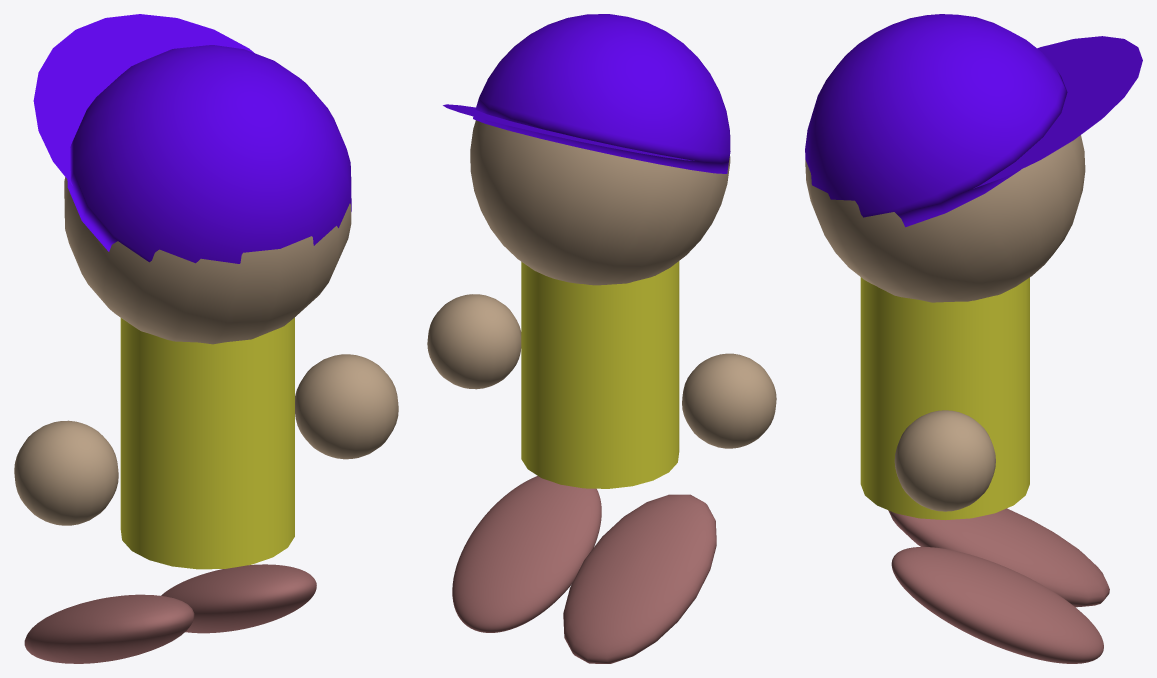
The model's file is playerjanp.fbx.
The picture shows the model from 3 angles, left to right: view 1: azimuth 30°, elevation 25°; view 2: azimuth 150°, elevation 25°; view 3: azimuth 270°, elevation 25°; orthographic projection. The views are drawn at different scales.
Parts seen in each view (by area): view 1: pSphere7, pCylinder1, pSphere1, pDisc1, pSphere8, pSphere2, pSphere3, pSphere6; view 2: pCylinder1, pSphere1, pSphere7, pSphere3, pSphere6, pSphere2, pSphere8, pDisc1; view 3: pSphere7, pCylinder1, pSphere1, pSphere6, pSphere3, pSphere2, pDisc1.
Boxes of the visible parts, box(x1,y1,x2,y2) form: pSphere7: box(67, 45, 351, 263); pCylinder1: box(120, 317, 294, 569); pSphere1: box(64, 177, 351, 344); pDisc1: box(33, 14, 254, 185); pSphere8: box(14, 420, 118, 525); pSphere2: box(295, 354, 398, 459); pSphere3: box(24, 594, 194, 663); pSphere6: box(161, 564, 316, 633); pCylinder1: box(521, 261, 679, 488); pSphere1: box(470, 120, 730, 285); pSphere7: box(473, 14, 730, 173); pSphere3: box(563, 494, 716, 663); pSphere6: box(452, 476, 601, 632); pSphere2: box(427, 294, 521, 389); pSphere8: box(682, 353, 776, 448); pDisc1: box(443, 104, 694, 160); pSphere7: box(805, 14, 1067, 227); pCylinder1: box(860, 277, 1029, 520); pSphere1: box(805, 135, 1085, 302); pSphere6: box(891, 547, 1103, 663); pSphere3: box(888, 508, 1109, 607); pSphere2: box(894, 410, 995, 511); pDisc1: box(973, 36, 1142, 188).
Bounding box in the file's own units: 0.7075 × 1.14 × 0.5777.
